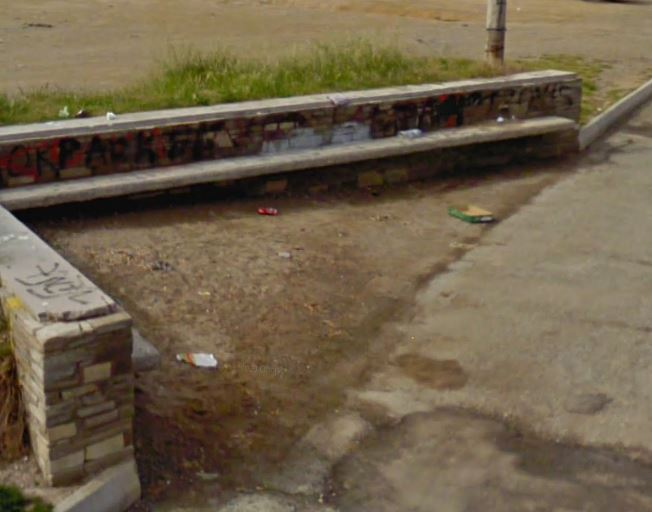trash: (167, 343, 224, 375), (445, 198, 504, 227), (56, 102, 118, 120), (252, 202, 290, 221), (395, 126, 428, 142)
